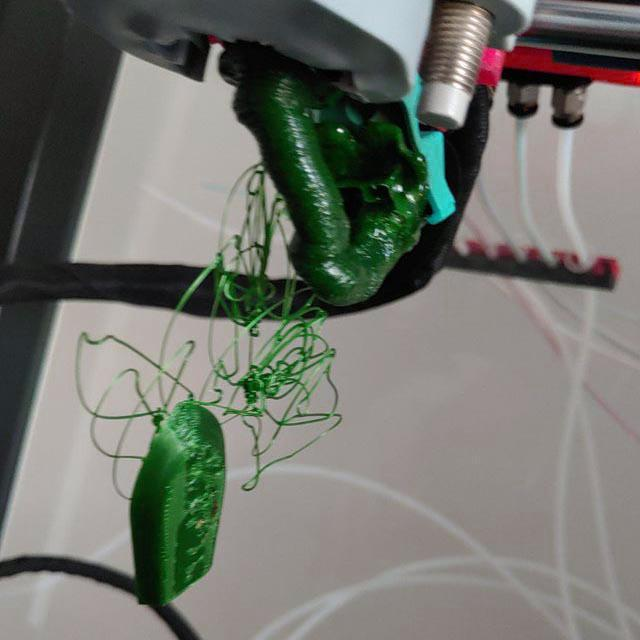Spaghetti: (160, 154, 354, 503), (72, 322, 160, 499)
